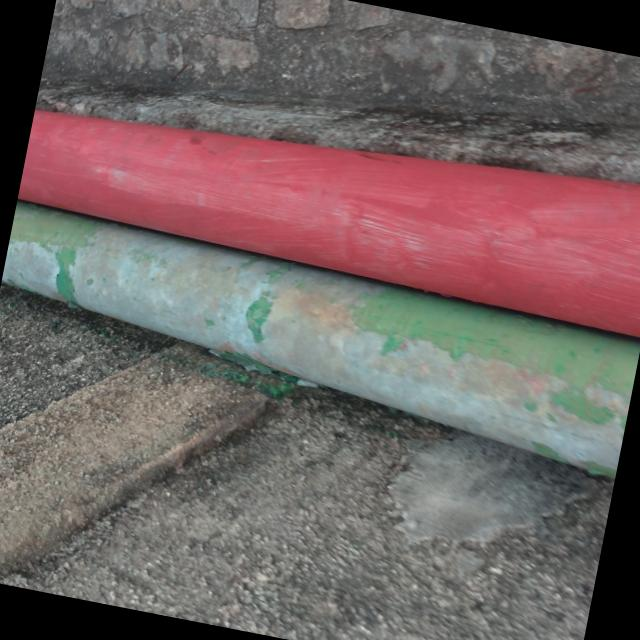gas: (0, 207, 640, 488), (14, 62, 640, 339)
